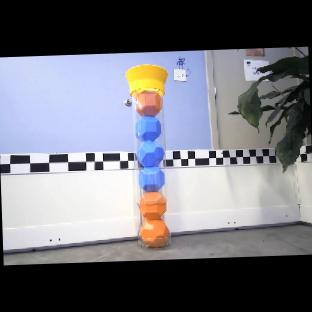V5_BLUE: (136, 141, 165, 167), (138, 167, 166, 193), (134, 116, 162, 141)
V5_RED: (139, 192, 168, 220), (140, 220, 169, 248), (135, 89, 163, 116)
